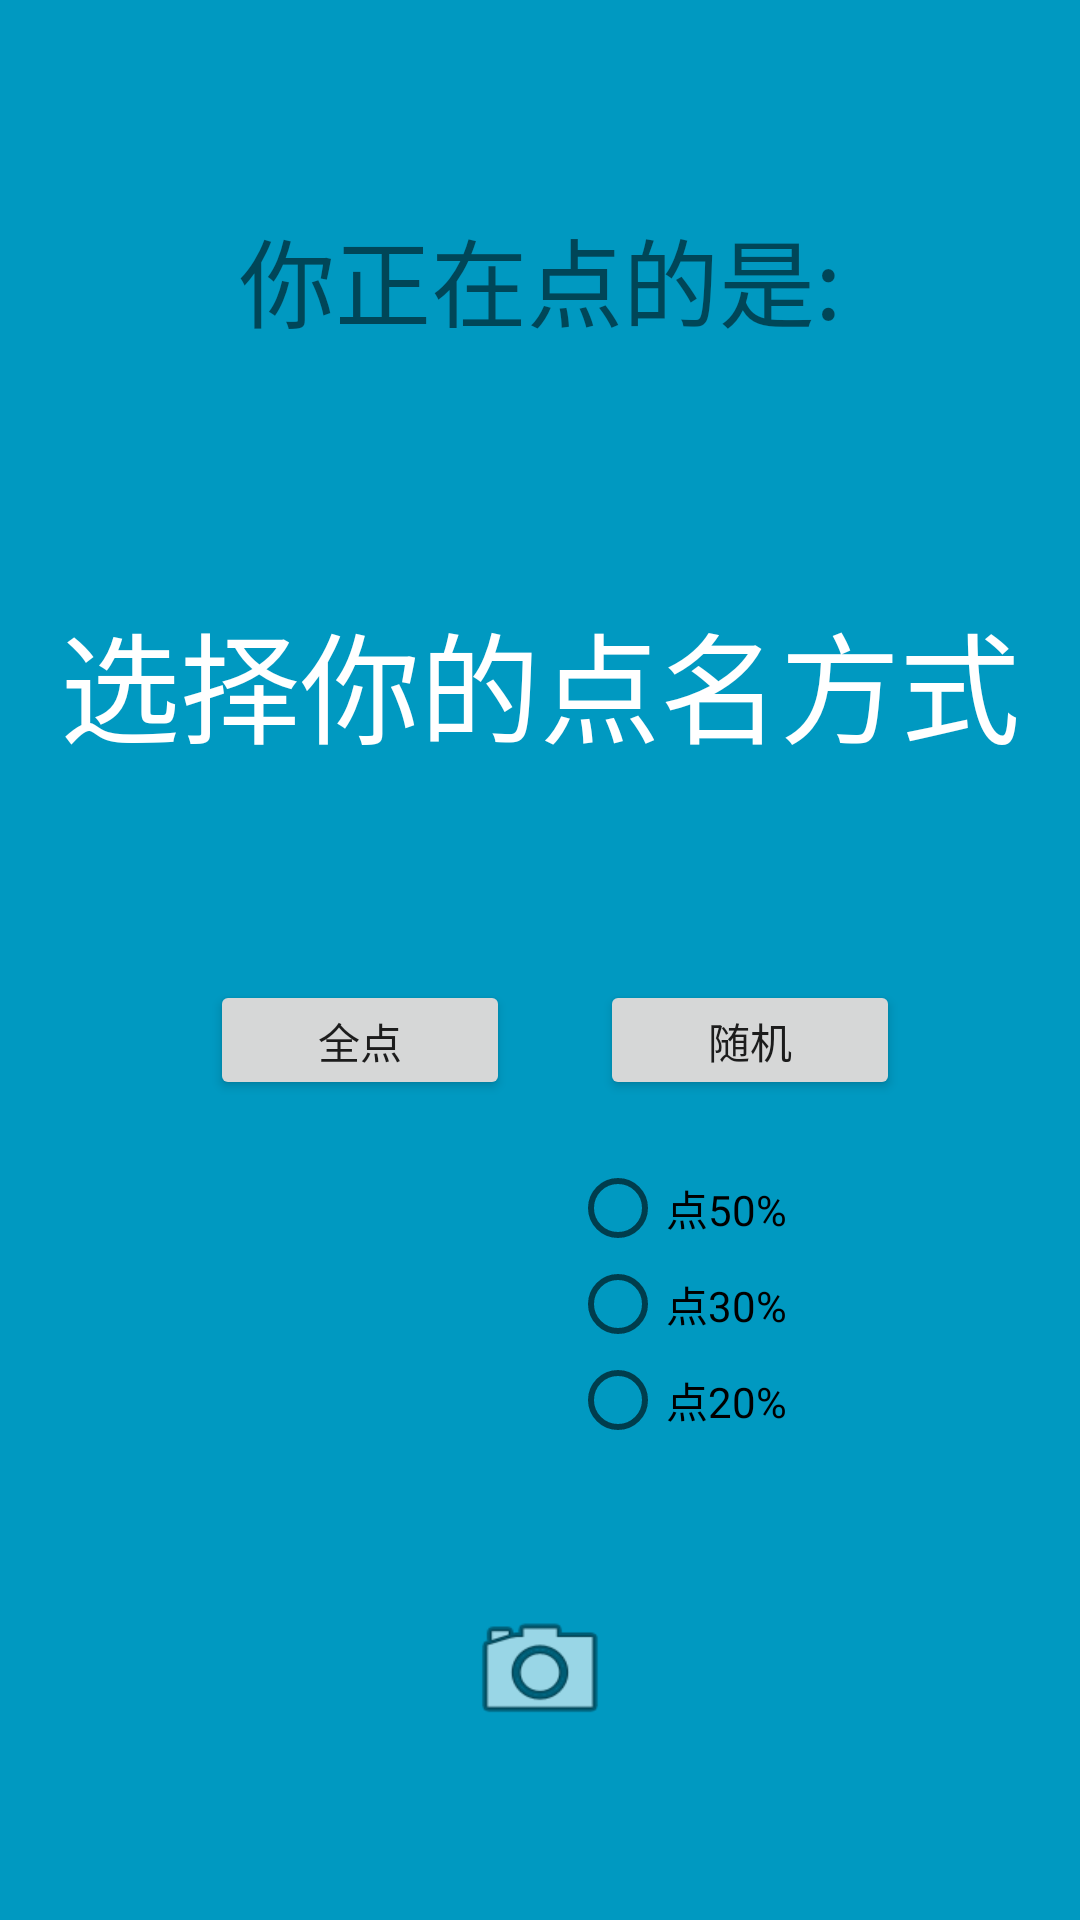

Where to tap for icons on this 1080px×1920px app screen, as [x,y]:
camera: [540,1667]
